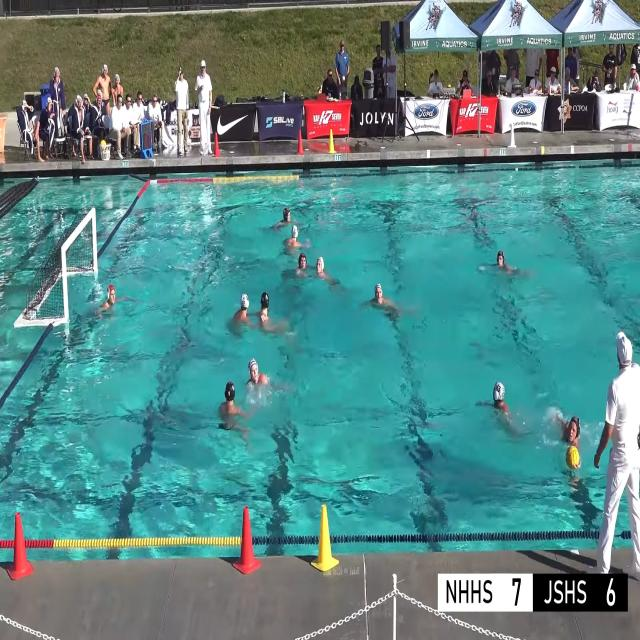ball: (566, 446, 580, 470), (101, 139, 106, 145)
